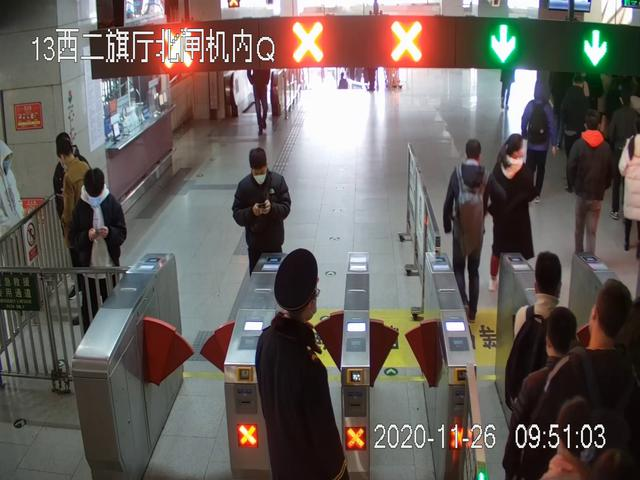person: (255, 248, 346, 480), (546, 280, 640, 480), (504, 251, 576, 480), (69, 169, 127, 372), (443, 139, 505, 322), (232, 148, 291, 329), (490, 133, 539, 291), (566, 110, 610, 268), (521, 81, 559, 202), (618, 122, 640, 256)
